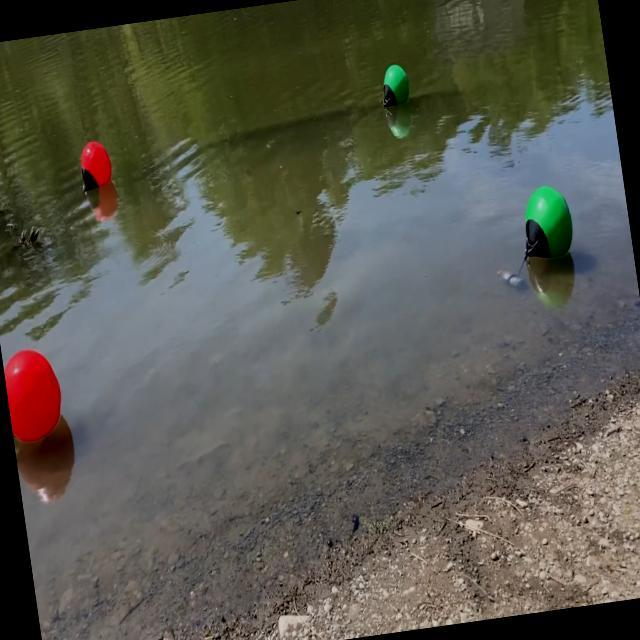buoy: (1, 340, 70, 452), (510, 178, 579, 268), (75, 136, 117, 197), (376, 60, 416, 113)
